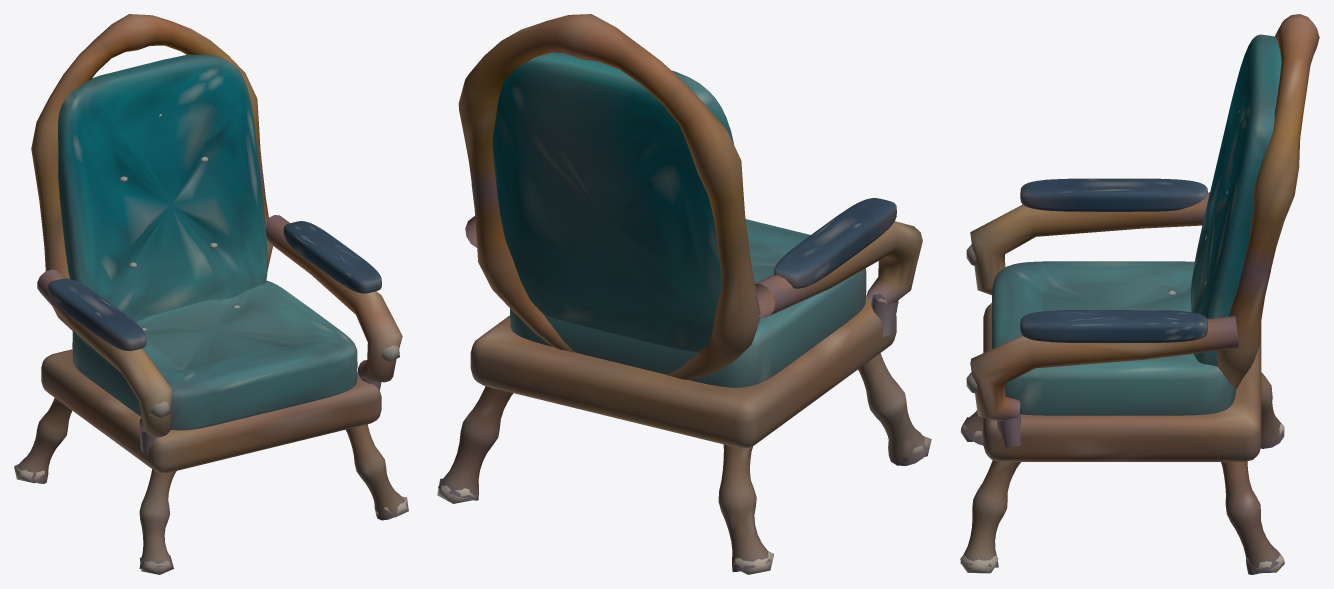
File: gaudi_berjer.glb
3 views of the same model, side by side, from view 1: azimuth 30°, elevation 25°; view 2: azimuth 150°, elevation 25°; view 3: azimuth 270°, elevation 25° (orthographic). The views are drawn at different scales.
Visible parts, largest first — view 1: gaudi_berjer_LOD0; view 2: gaudi_berjer_LOD0; view 3: gaudi_berjer_LOD0.
Boxes of the visible parts, bbox=[...] form: gaudi_berjer_LOD0: bbox=[14, 14, 408, 574]; gaudi_berjer_LOD0: bbox=[437, 14, 931, 574]; gaudi_berjer_LOD0: bbox=[960, 14, 1319, 574].
Size of what is drawn, in the model's own units: 0.8599 by 1.32 by 0.8789.
